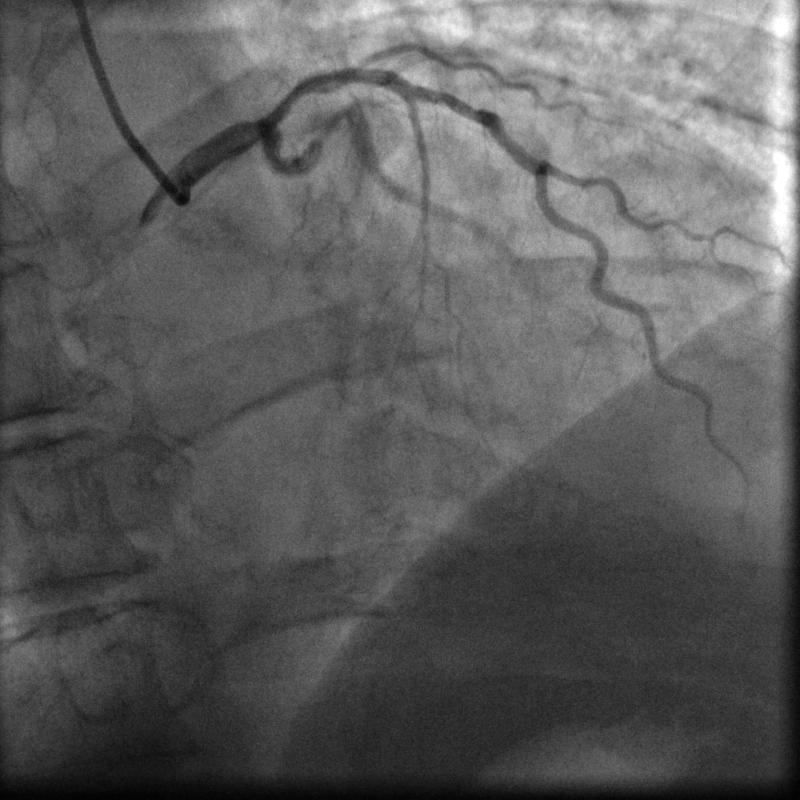Stenosis: (318, 105, 366, 133)
